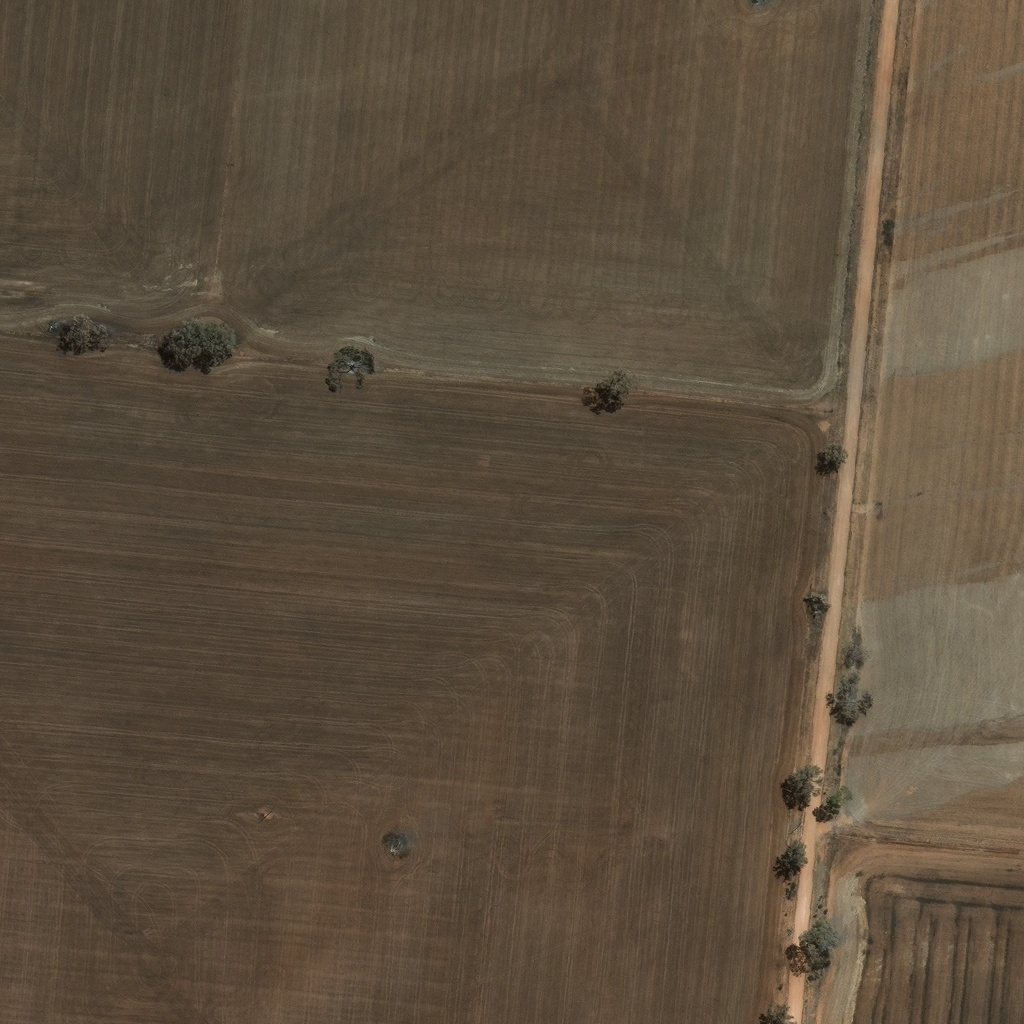4 un-classified: (69, 689, 80, 700)
